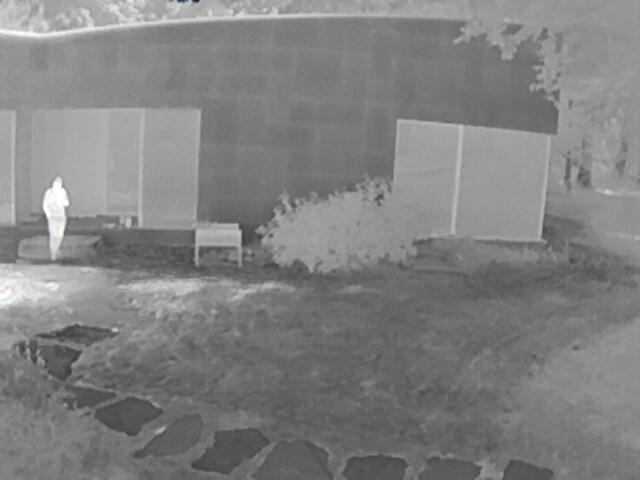person: (43, 177, 67, 262)
